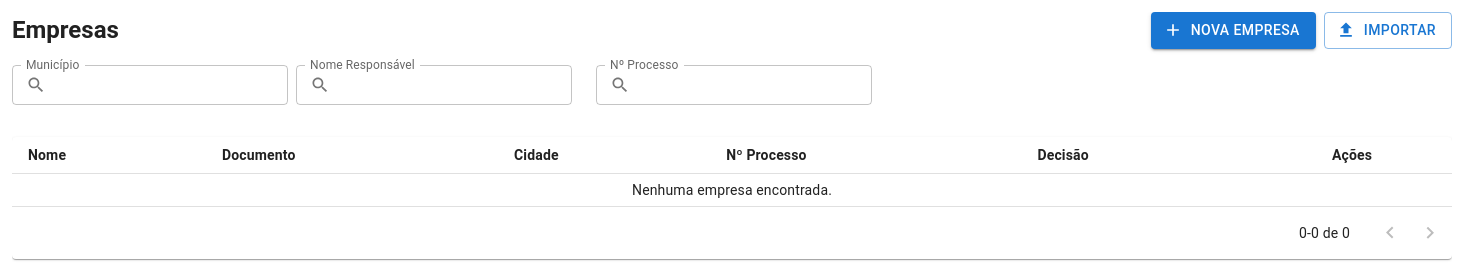
Test: EmpresaLista › mostra botão Limpar filtros quando há filtros ativos
The width and height of the screenshot is (1464, 278).
Type "João" into the field labelled "Nome Responsável" at (455, 84), box top-left (338, 64), bottom-right (572, 104)
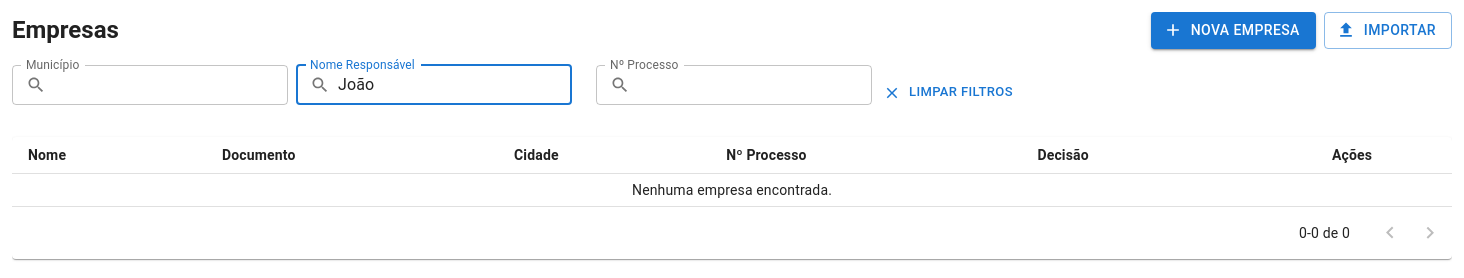
Expected: the button "Limpar filtros" is shown, top-left (880, 77), bottom-right (1018, 108)
